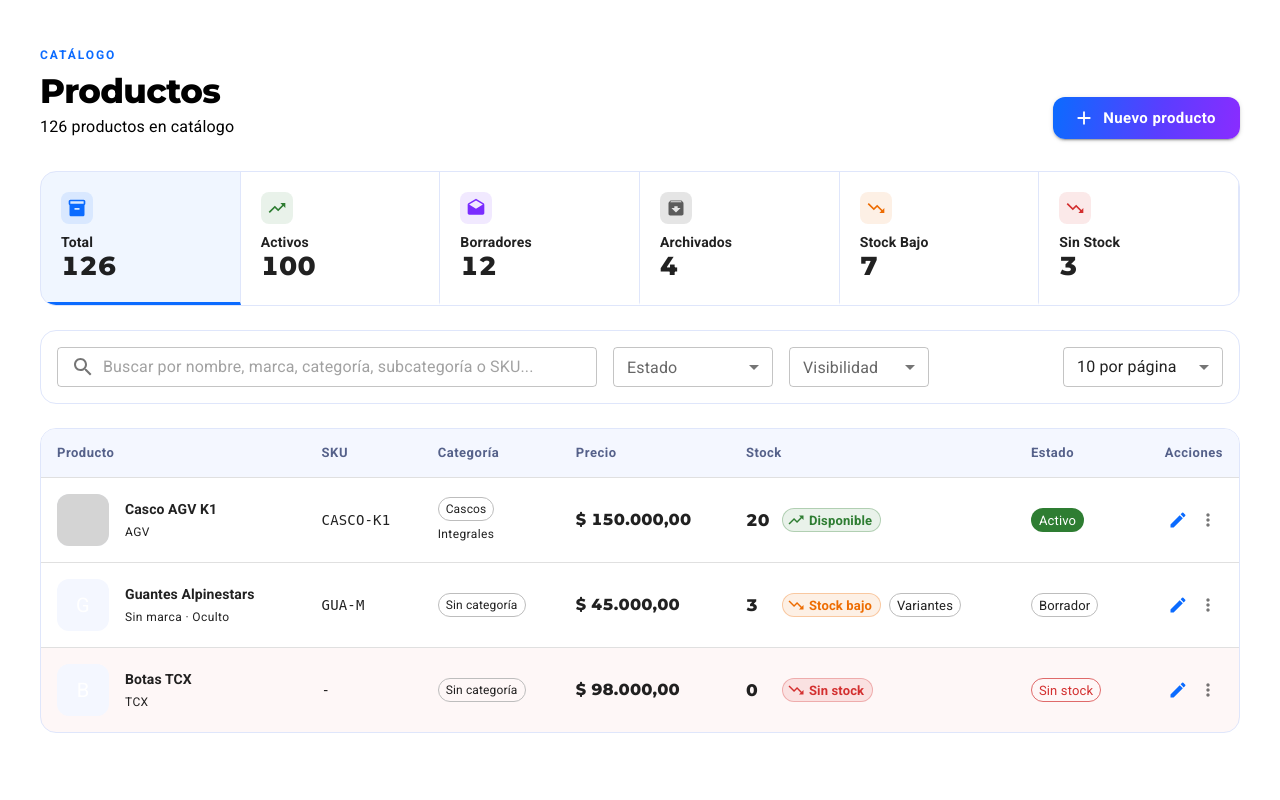
Test case: Lista de productos · eliminar › pide confirmación, dice qué se borra y sugiere archivar
What coordinates should you click on to do the following:
click the button named "más acciones" in the row of "Casco AGV K1"
I would click on:
 (1208, 520)
Its box is 1193,506 -> 1223,536.
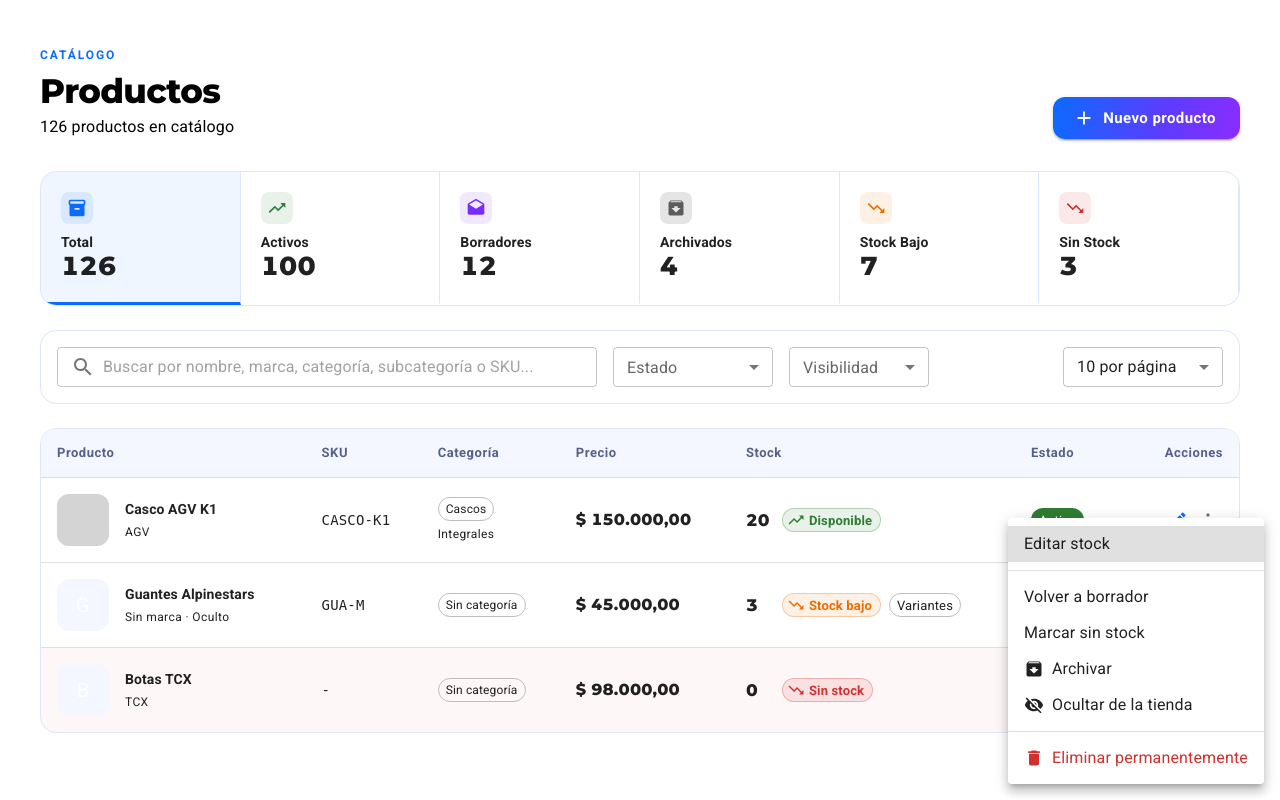
What coordinates should you click on to do the following:
click the menu item "Eliminar permanentemente"
I would click on:
 (1136, 758)
Its box is 1024,748 -> 1248,768.
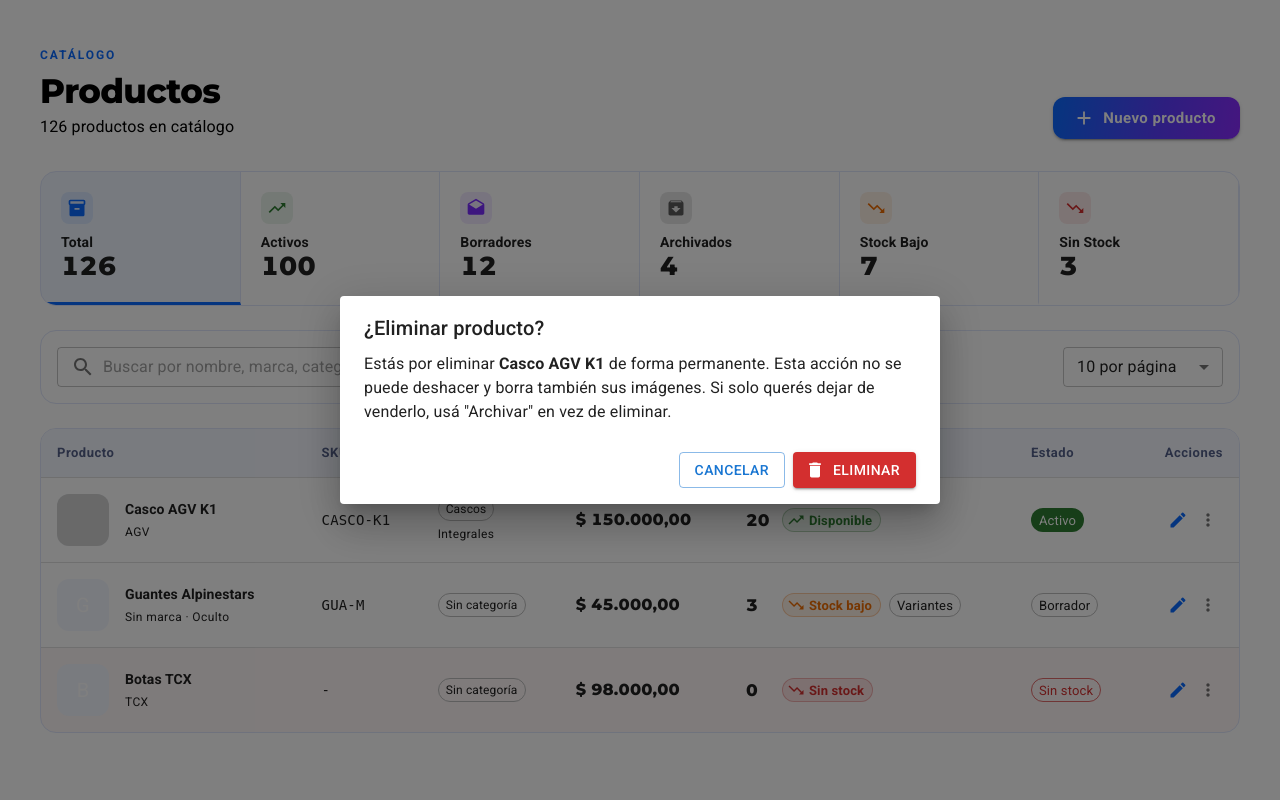
Check: the heading "¿Eliminar producto?" is shown, box 364,316 -> 544,340
Check: the text "Casco AGV K1" is shown, box 499,354 -> 605,373
Check: the text "archivar" is shown, box 364,354 -> 902,421
